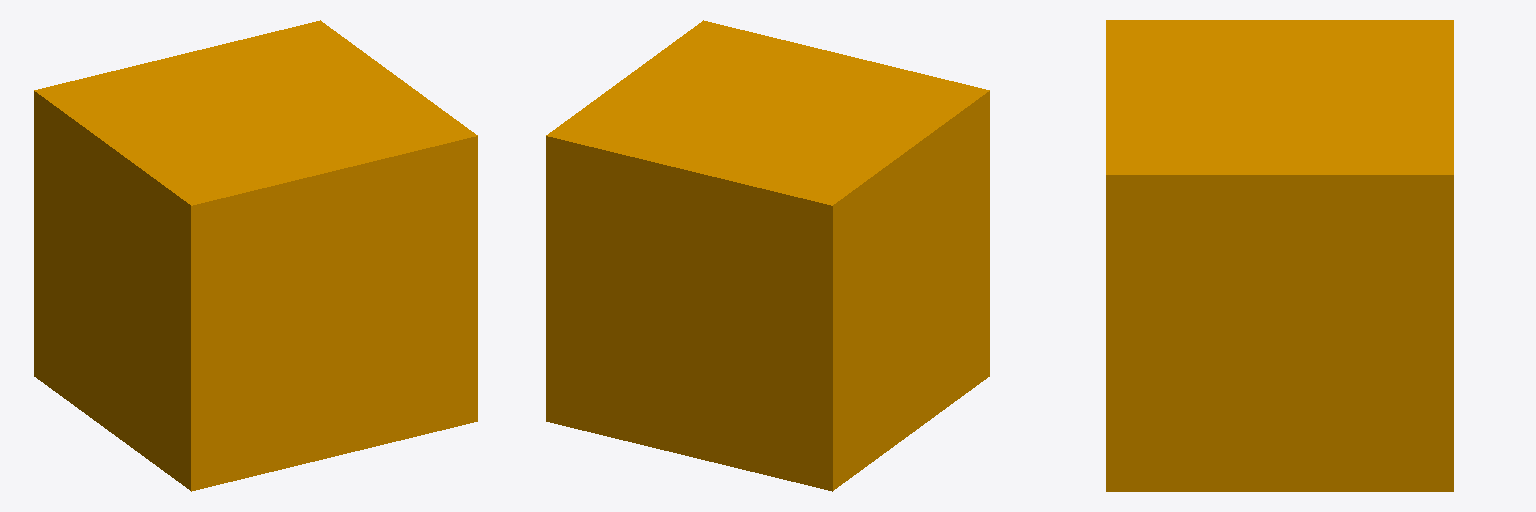
URDF robot description (object):
<robot name="object">
  <link name="object">
    <visual>
      <origin xyz="0 0 0" />
      <geometry>
        <box size="0.08400000000000002 0.08000000000000002 0.08" />
      </geometry>
    </visual>

    <collision>
      <origin xyz="0 0 0" />
      <geometry>
        <box size="0.08400000000000002 0.08000000000000002 0.08" />
      </geometry>
    </collision>

    <inertial>
      <mass value="0.05" />
      <inertia ixx="0.0001" ixy="0.0" ixz="0.0" iyy="0.0001" iyz="0.0" izz="0.0001" />
    </inertial>
  </link>
</robot>

--- Facts derived from the render (not from the file) ---
3 views of the same robot in one strip: view 1: azimuth 30°, elevation 25°; view 2: azimuth 150°, elevation 25°; view 3: azimuth 270°, elevation 25° (orthographic).
Model object with 1 links and 0 joints (none), rooted at object, posed all joints at 0.
Links seen in each view (by area): view 1: object; view 2: object; view 3: object.
Boxes of the visible links, box(x1,y1,x2,y2) form: object: box(34, 20, 477, 491); object: box(546, 20, 989, 491); object: box(1106, 20, 1453, 491).
Size in the robot's own frame: 0.084 by 0.08 by 0.08 metres.
Geometry: primitives only (box / cylinder / sphere), no mesh files.